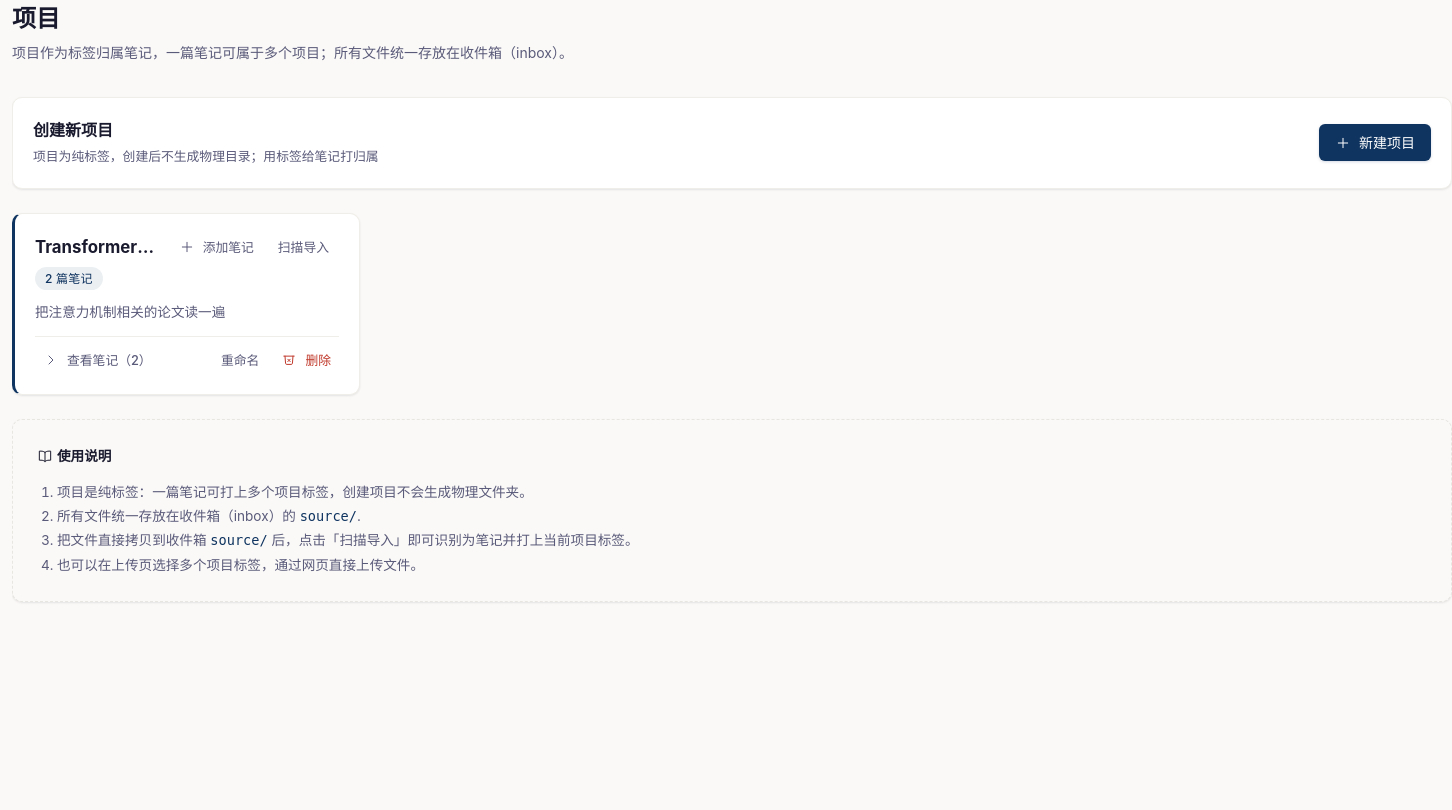
Test: 项目的新建 / 重命名 / 删除 › ★ 描述没动时仍然原样带上（清空修好不能变成"总是清空"）
Expected: the heading "Transformer 论文精读" is shown, [35, 234, 157, 261]
Click the button "重命名" at (240, 360), box [213, 347, 267, 374]
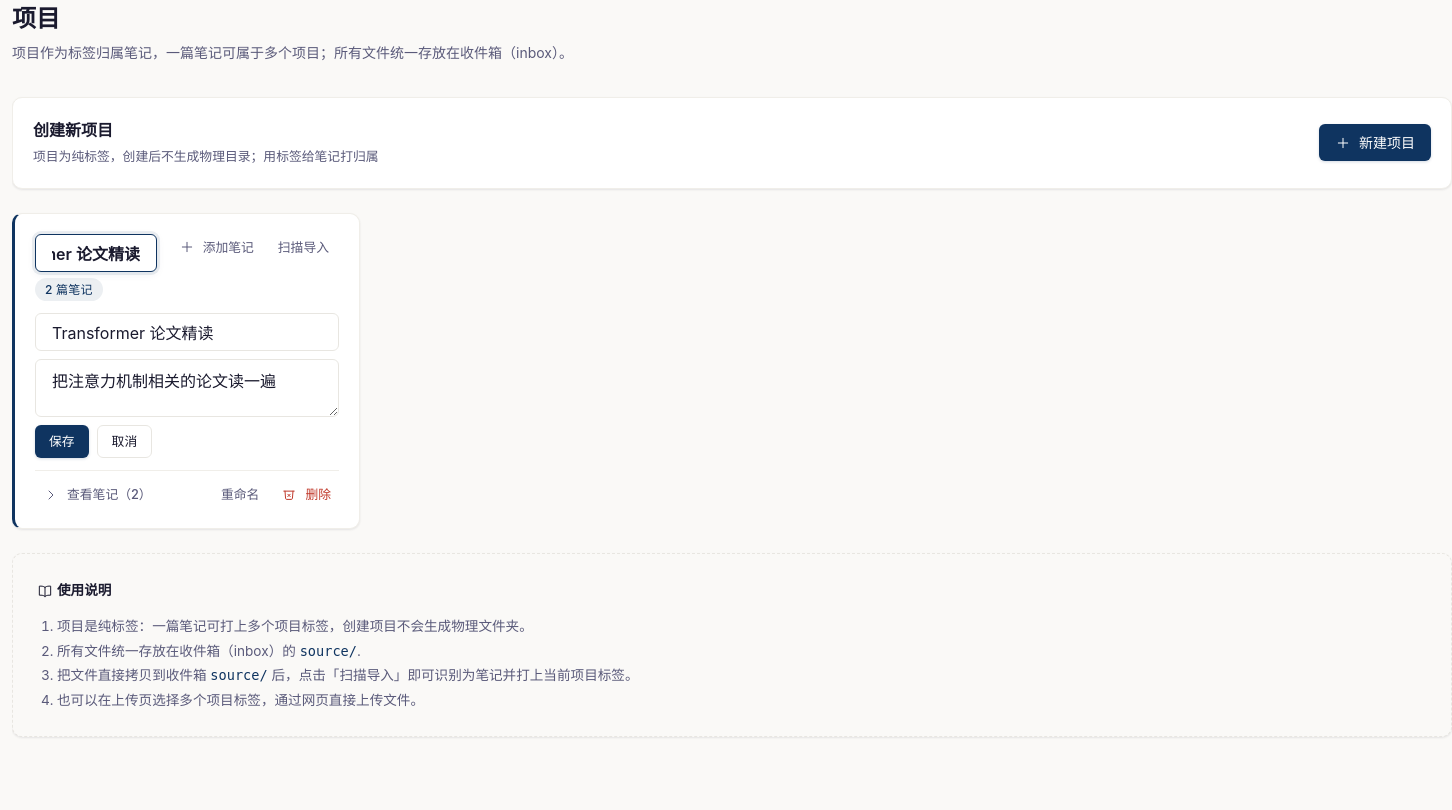
Replace the text in the 2nd field with placeholder "项目名称" with "只改名字" at (187, 332), box [35, 313, 339, 351]
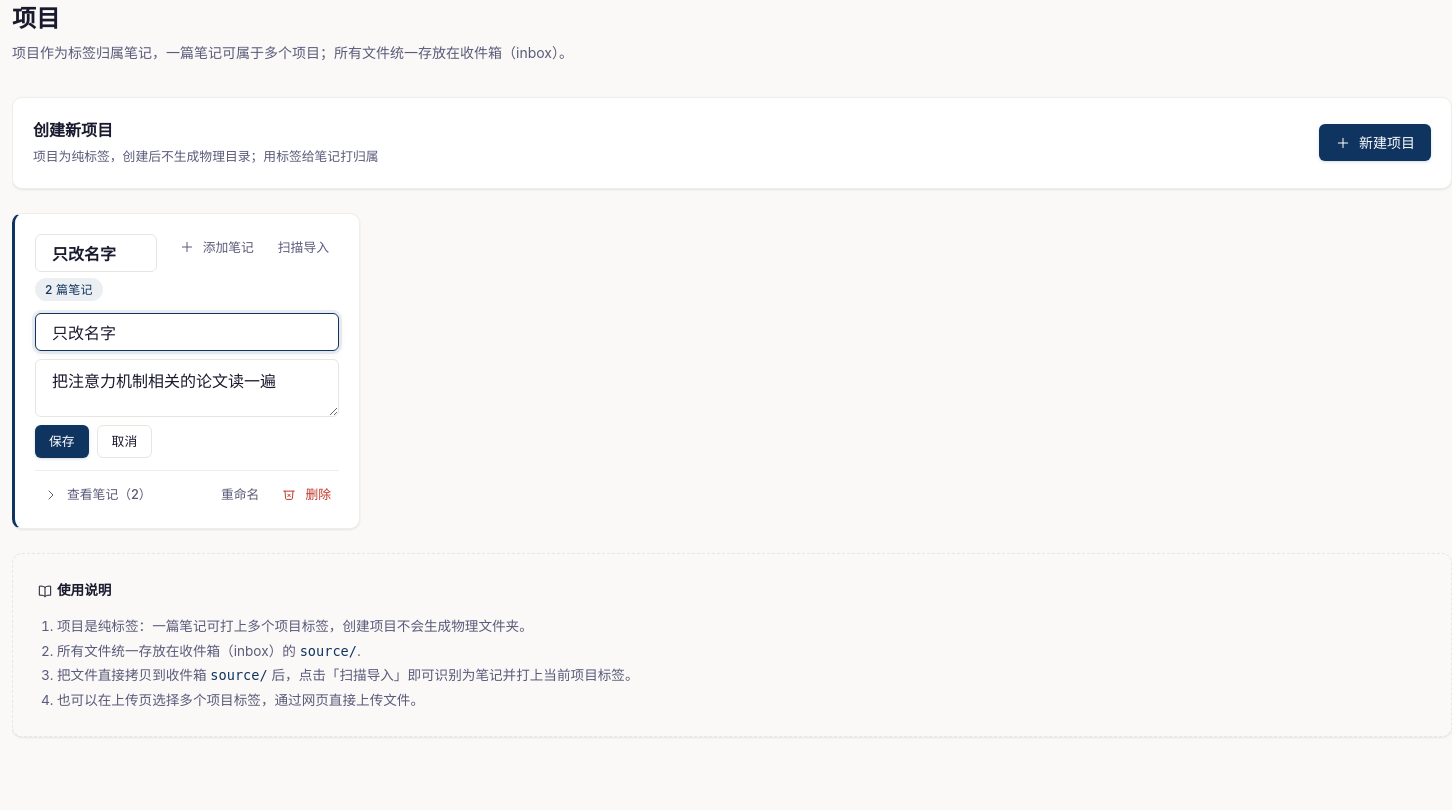
Click the button "保存" at (62, 442), box [35, 425, 89, 458]
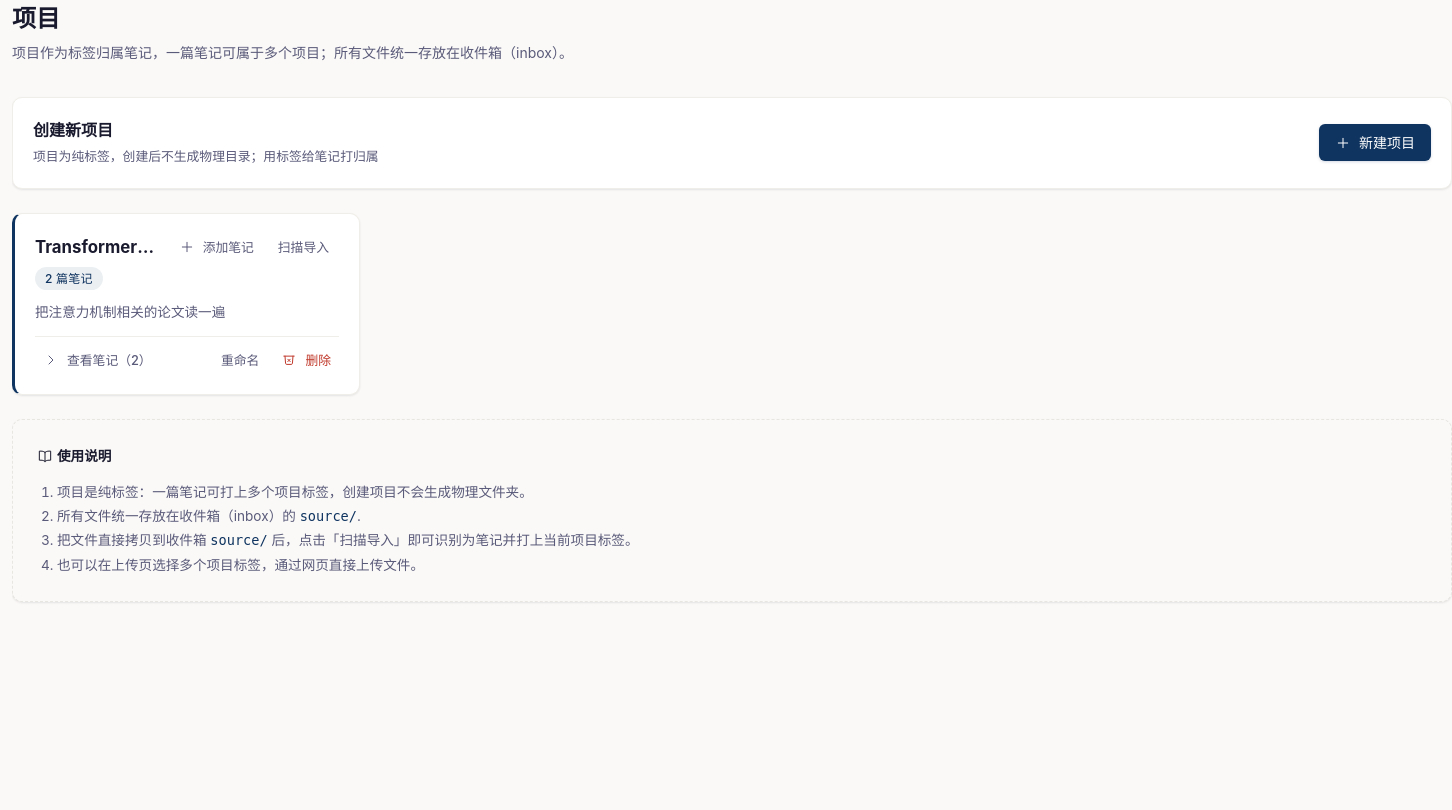
Expected: the text "把注意力机制相关的论文读一遍" is shown, [35, 304, 225, 320]
